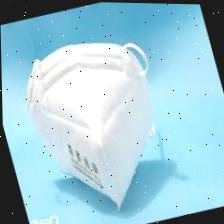mask: (11, 25, 181, 224)
